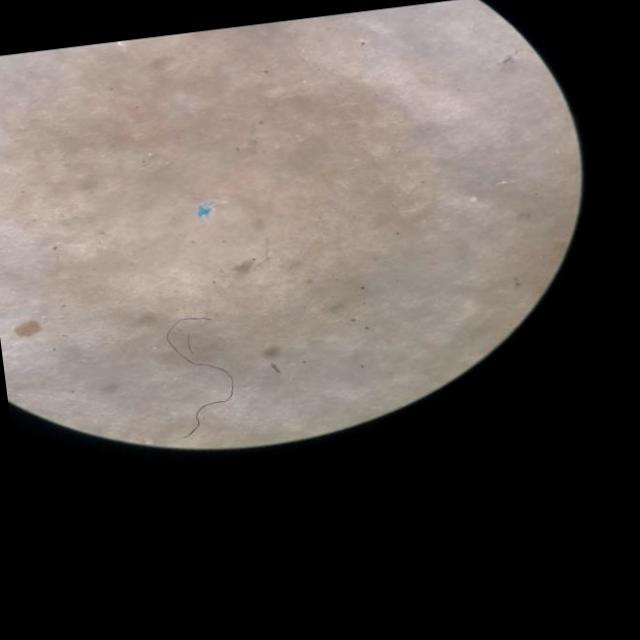fiber: (166, 318, 234, 438)
film: (198, 201, 216, 218)
fragment: (16, 320, 41, 337)
pellet: (470, 197, 476, 202)
